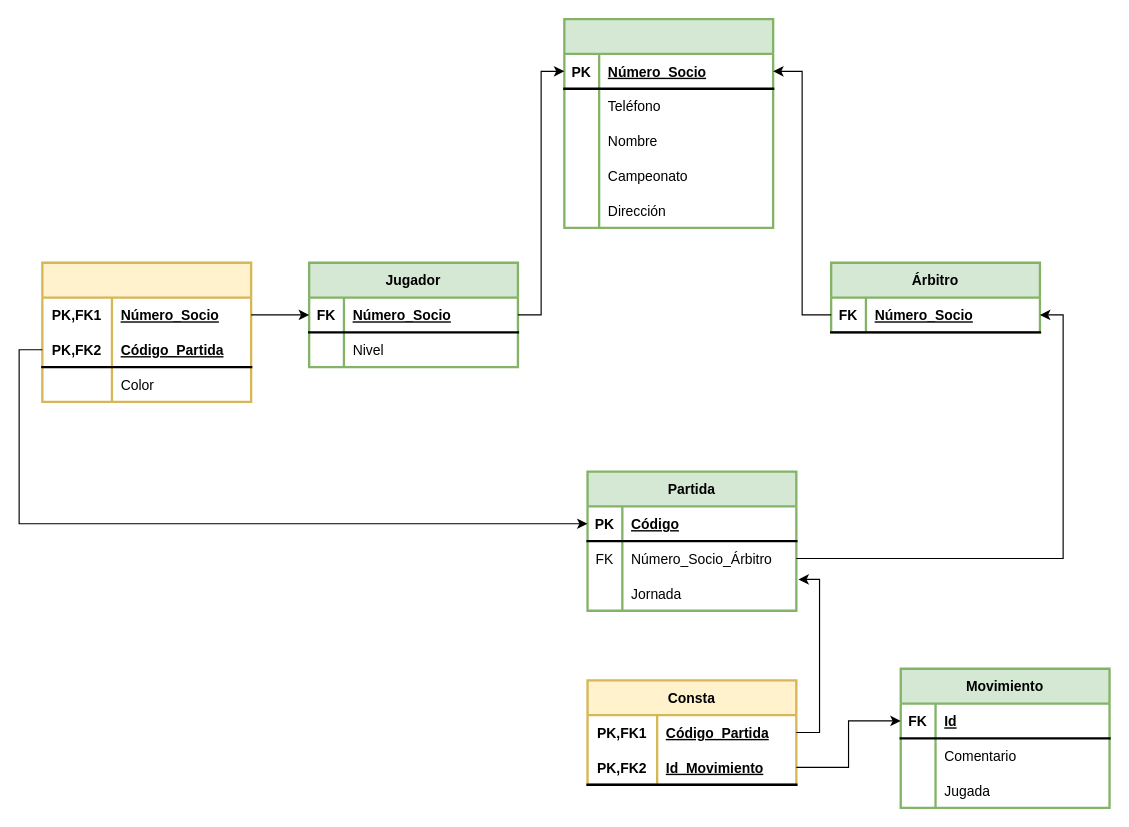
The diagram is 1129 pixels wide and 827 high, and some of its shapes have lost their labels. Here are the shapes that lost their labels. From the top down, the box of each, then its label:
(563, 17, 774, 229): Participante
(41, 261, 252, 403): Juega
